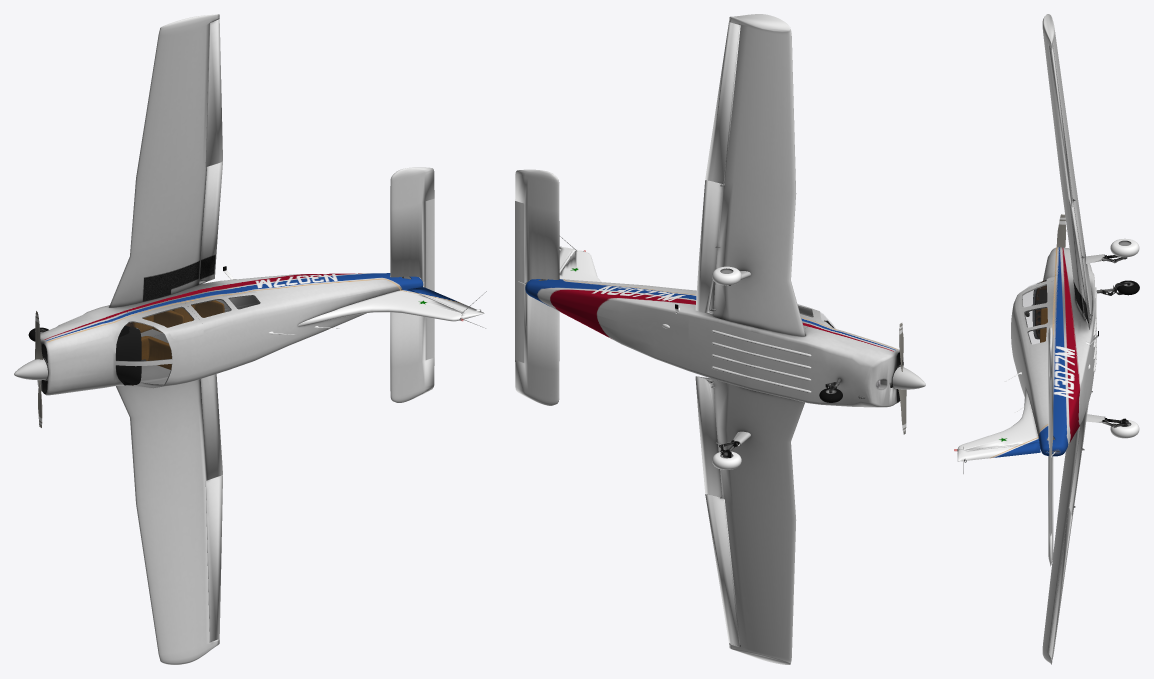
3 renders of one model, left to right at view 1: azimuth 30°, elevation 25°; view 2: azimuth 150°, elevation 25°; view 3: azimuth 270°, elevation 25°, orthographic.
Parts seen in each view (by area): view 1: Fuselage, wing.L, wing.R, Stabilator, VTail, LeftAileron, RightAileron, RightFlap, seats, LeftFlap, doorF, interior (+2 smaller); view 2: Fuselage, wing.R, wing.L, Stabilator, RightAileron, RightFlap, LeftAileron, LeftFlap, AntiServoTab, VTail; view 3: Fuselage, wing.R, wing.L, VTail, Stabilator, Rudder, doorF, RightAileron, LeftAileron, RightFlap, doorB, LeftFlap (+4 smaller).
Boxes of the visible parts, bbox=[...] form: Fuselage: bbox=[37, 266, 423, 395]; wing.L: bbox=[116, 379, 219, 664]; wing.R: bbox=[109, 14, 219, 307]; Stabilator: bbox=[390, 167, 434, 402]; VTail: bbox=[298, 289, 486, 328]; LeftAileron: bbox=[205, 475, 222, 642]; RightAileron: bbox=[205, 19, 222, 166]; RightFlap: bbox=[199, 161, 222, 284]; seats: bbox=[132, 300, 224, 369]; LeftFlap: bbox=[200, 374, 222, 479]; doorF: bbox=[123, 296, 204, 340]; interior: bbox=[115, 295, 260, 388]; Fuselage: bbox=[525, 279, 903, 407]; wing.R: bbox=[712, 14, 805, 336]; wing.L: bbox=[711, 379, 804, 664]; Stabilator: bbox=[515, 169, 559, 405]; RightAileron: bbox=[705, 22, 740, 184]; RightFlap: bbox=[695, 180, 724, 314]; LeftAileron: bbox=[705, 494, 740, 646]; LeftFlap: bbox=[695, 376, 722, 498]; AntiServoTab: bbox=[515, 201, 525, 362]; VTail: bbox=[559, 236, 601, 281]; Fuselage: bbox=[1005, 247, 1098, 456]; wing.R: bbox=[1042, 14, 1092, 320]; wing.L: bbox=[1042, 391, 1092, 664]; VTail: bbox=[957, 388, 1039, 473]; Stabilator: bbox=[1048, 327, 1053, 566]; Rudder: bbox=[957, 442, 1040, 462]; doorF: bbox=[1012, 280, 1072, 319]; RightAileron: bbox=[1049, 46, 1072, 206]; LeftAileron: bbox=[1049, 507, 1072, 659]; RightFlap: bbox=[1069, 200, 1092, 329]; doorB: bbox=[1050, 321, 1081, 343]; LeftFlap: bbox=[1069, 391, 1092, 515].
Size of the model in its own units: 7.33 by 10.69 by 2.84.
Materials: 12 (5 with a texture image).
